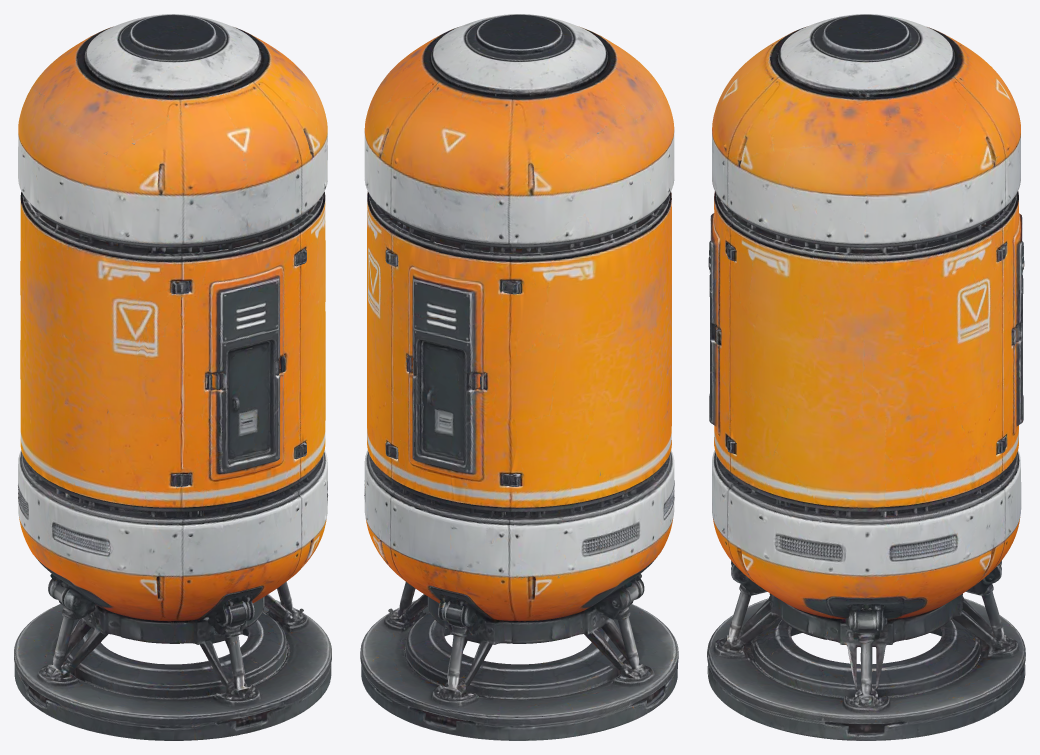
The model's file is 胶囊仓库-亢知行.glb.
3 views of the same model, side by side, from view 1: azimuth 30°, elevation 25°; view 2: azimuth 150°, elevation 25°; view 3: azimuth 270°, elevation 25° (orthographic).
Size of the model in its own units: 0.8545 by 1.9 by 0.855.
Materials: 1 (1 with a texture image).
